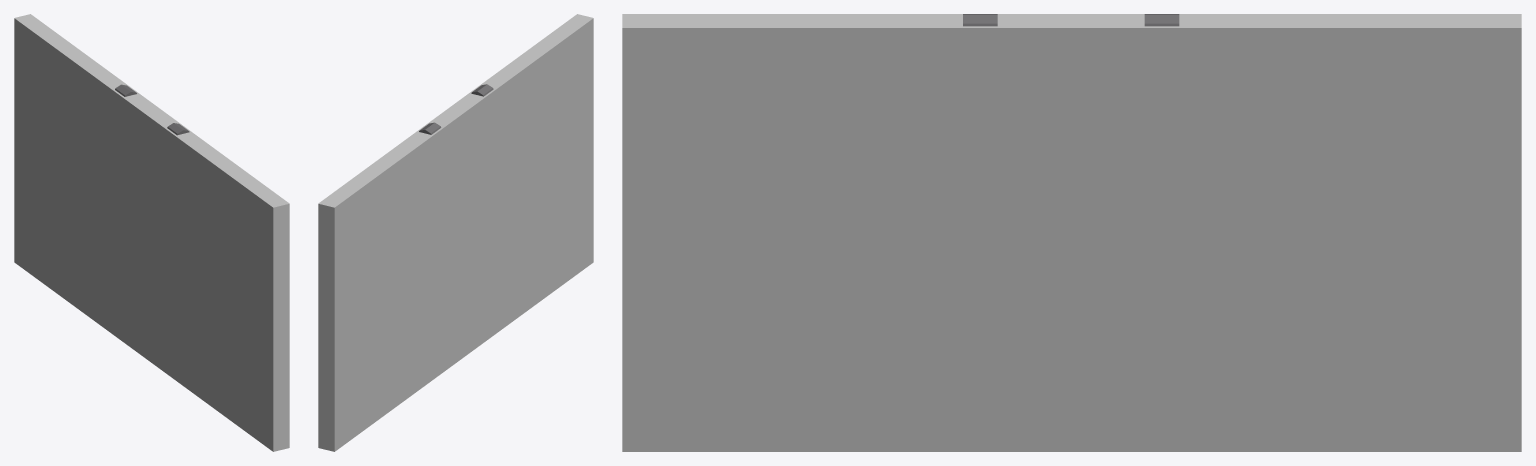
The model's file is SM_Road_Railing_03.fbx.
The picture shows the model from 3 angles, left to right: view 1: azimuth 30°, elevation 25°; view 2: azimuth 150°, elevation 25°; view 3: azimuth 270°, elevation 25°; orthographic projection. The views are drawn at different scales.
Visible parts, largest first — view 1: SM_Road_Railing_03_ConvexHulls, SM_Road_Railing_03; view 2: SM_Road_Railing_03_ConvexHulls, SM_Road_Railing_03; view 3: SM_Road_Railing_03_ConvexHulls, SM_Road_Railing_03.
Boxes of the visible parts, x1=… form: SM_Road_Railing_03_ConvexHulls: x1=14, y1=14, x2=289, y2=451; SM_Road_Railing_03: x1=115, y1=84, x2=189, y2=135; SM_Road_Railing_03_ConvexHulls: x1=318, y1=14, x2=593, y2=451; SM_Road_Railing_03: x1=419, y1=84, x2=493, y2=134; SM_Road_Railing_03_ConvexHulls: x1=622, y1=14, x2=1521, y2=451; SM_Road_Railing_03: x1=963, y1=14, x2=1179, y2=26.
Bounding box in the file's own units: 7.36 × 200 × 106.
